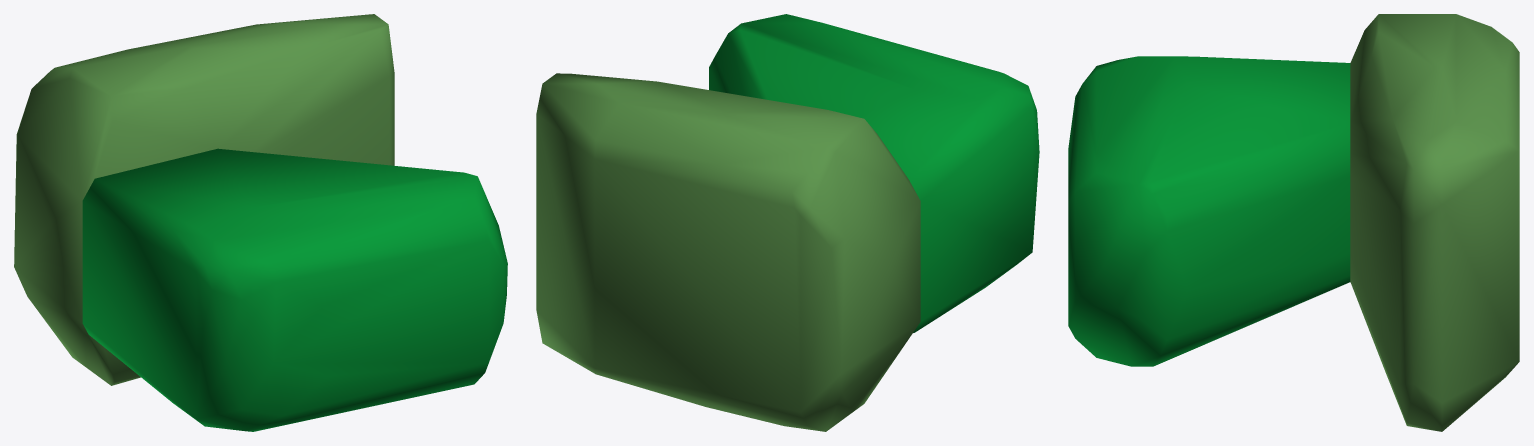
The model's file is body.obj.
3 views of the same model, side by side, from view 1: azimuth 30°, elevation 25°; view 2: azimuth 150°, elevation 25°; view 3: azimuth 270°, elevation 25° (orthographic).
Size of the model in its own units: 0.5074 by 0.4078 by 0.5799.
